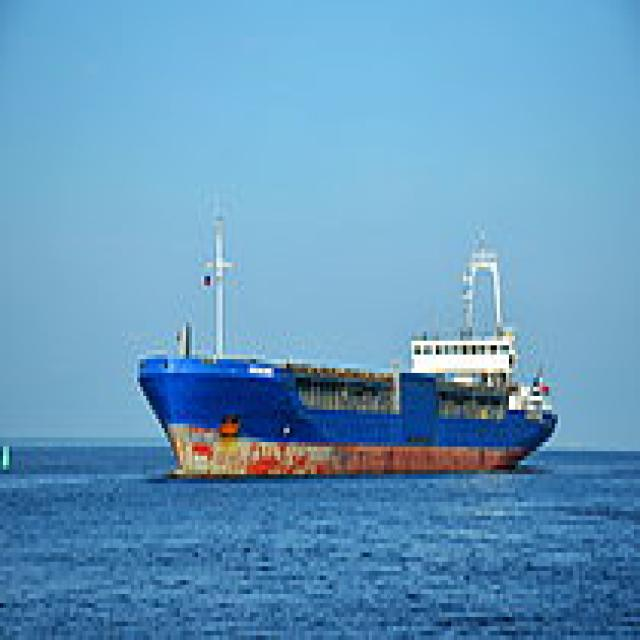Cargo: (134, 207, 558, 479)
